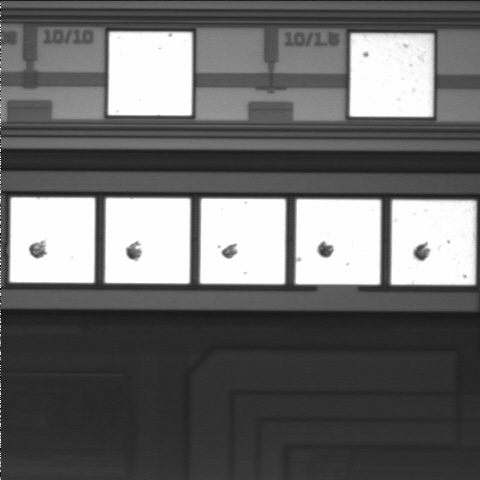pad: (10, 198, 95, 283), (105, 198, 190, 283), (200, 199, 285, 284), (296, 199, 381, 284), (391, 200, 476, 285), (108, 32, 192, 115), (350, 34, 433, 117)
